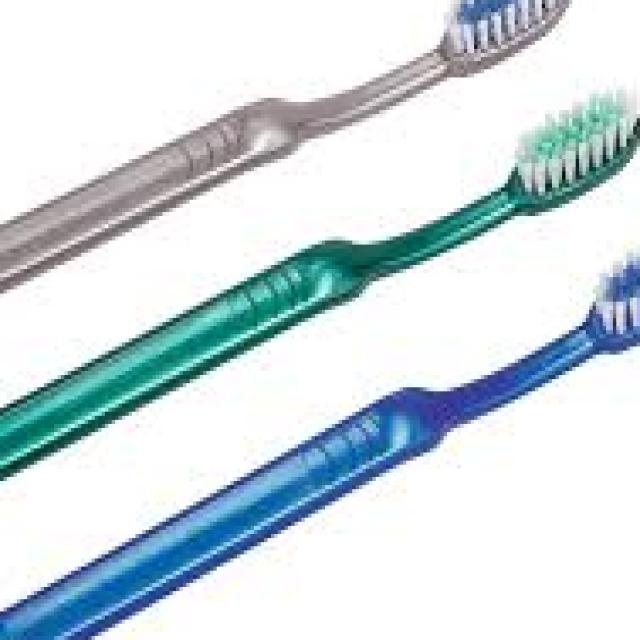organic: (2, 5, 635, 622)
